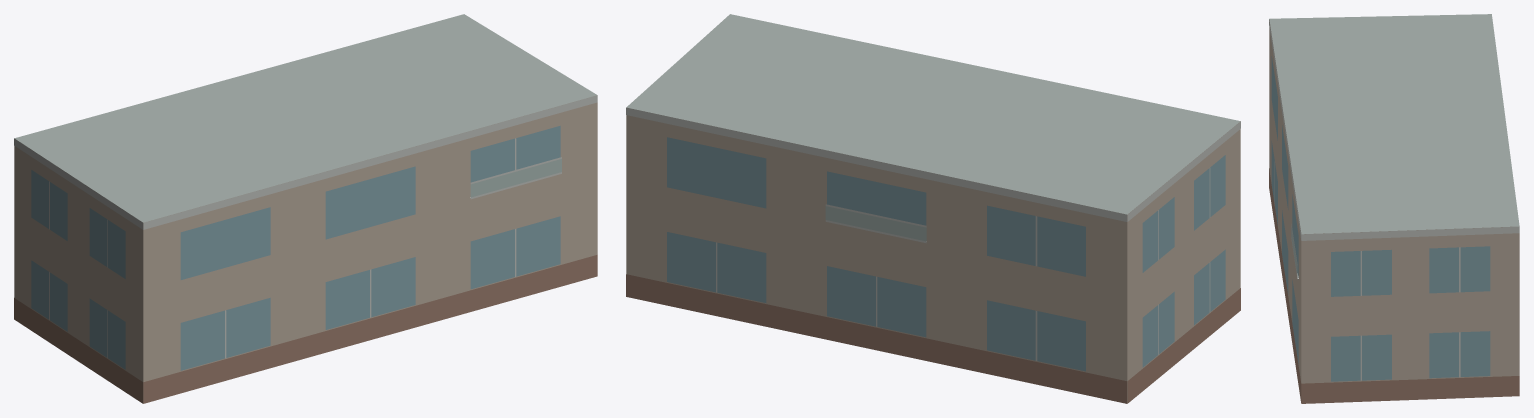
Rendered from survey-upis-33037142.glb.
3 views of the same model, side by side, from view 1: azimuth 30°, elevation 25°; view 2: azimuth 150°, elevation 25°; view 3: azimuth 270°, elevation 25° (orthographic). The views are drawn at different scales.
Parts seen in each view (by area): view 1: survey-upis-33037142.tmp; view 2: survey-upis-33037142.tmp; view 3: survey-upis-33037142.tmp.
Boxes of the visible parts, box(x1,y1,x2,y2) form: survey-upis-33037142.tmp: box(14, 14, 597, 403); survey-upis-33037142.tmp: box(626, 14, 1240, 403); survey-upis-33037142.tmp: box(1269, 14, 1519, 403).
Bounding box in the file's own units: 16.99 × 6.1 × 8.17.
